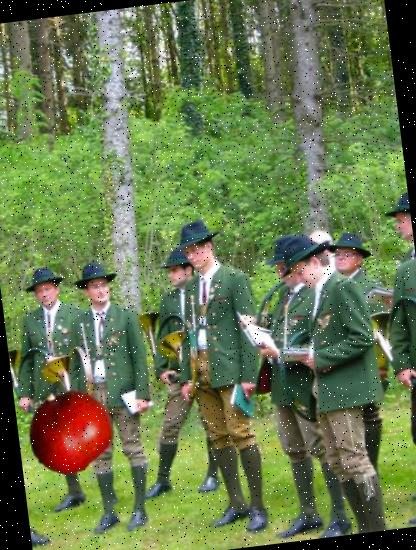Nectarine: (20, 383, 117, 480)
